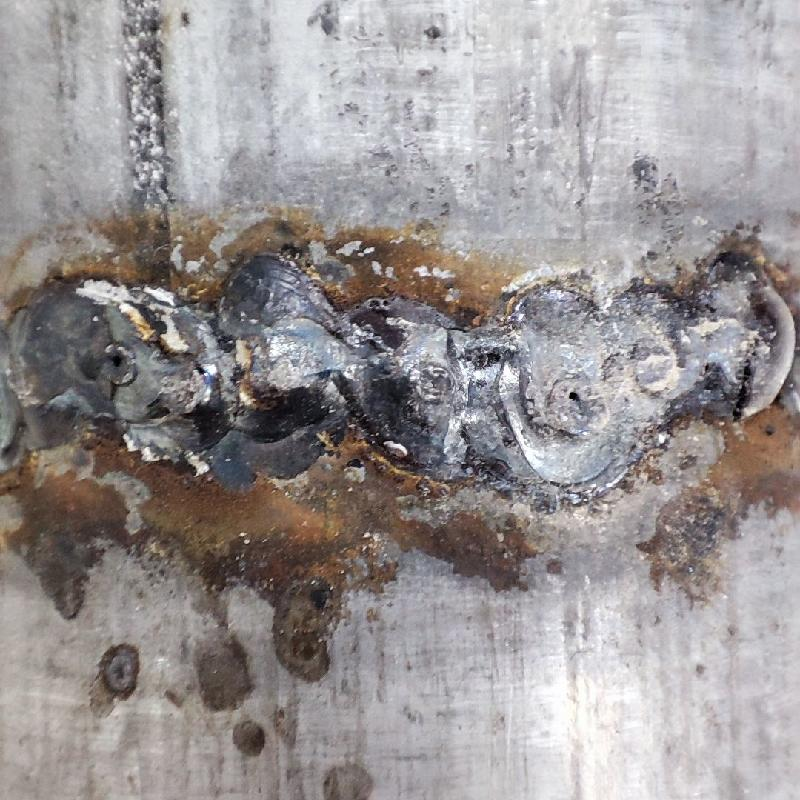Not_fully_soldered: (510, 263, 788, 495)
Surface_pores: (90, 339, 142, 388), (561, 369, 599, 430)
wrong_size: (2, 287, 467, 488)
